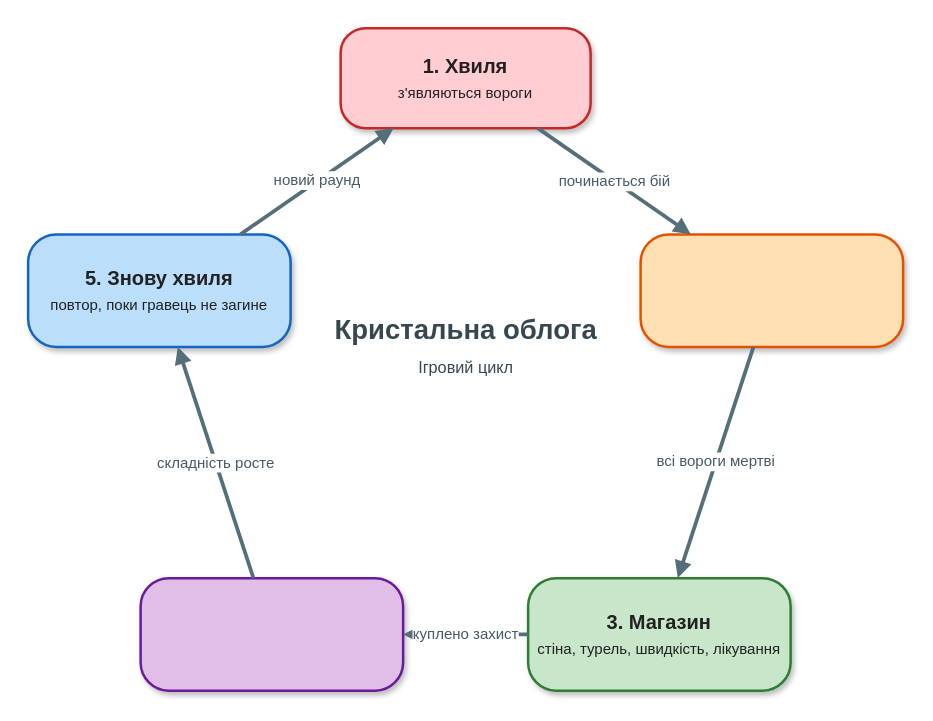
This 933x721 diagram has some shape labels left out. The shapes that lost their labels are listed below. From the top down, each one's centre as x and y in pixels, then its label:
At (772,292): "2. Бій і збір кристалів ризик: кристали там, де вороги".
At (272,635): "4. Сильніша хвиля більше й міцніших ворогів".
